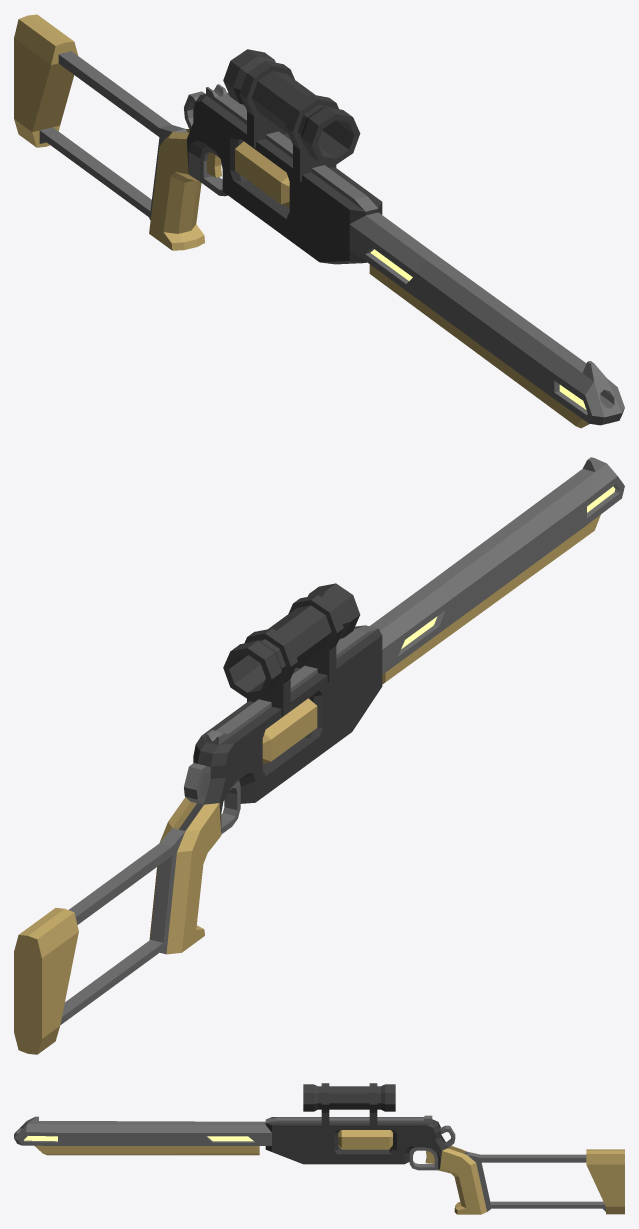
The model's file is RevolvingRifle.fbx.
3 renders of one model, top to bottom at view 1: azimuth 30°, elevation 25°; view 2: azimuth 150°, elevation 25°; view 3: azimuth 270°, elevation 25°, orthographic. The views are drawn at different scales.
Parts seen in each view (by area): view 1: RevolvingRifle; view 2: RevolvingRifle; view 3: RevolvingRifle.
Part boxes in pixels (x1,y1,x2,y2): RevolvingRifle: [14, 14, 624, 428]; RevolvingRifle: [14, 457, 624, 1054]; RevolvingRifle: [14, 1083, 624, 1214].
Bounding box in the file's own units: 50.14 × 229 × 987.
